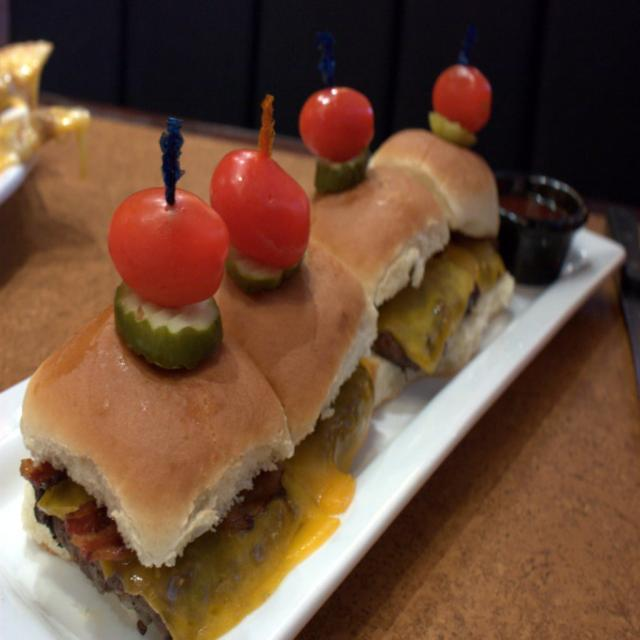Sandwich: (17, 56, 516, 639)
